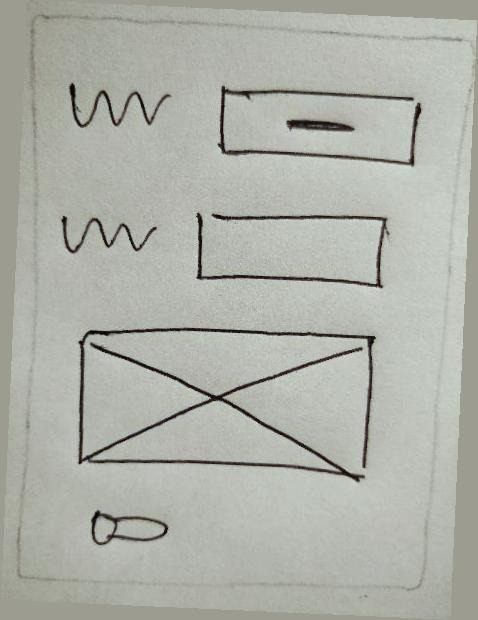button: (207, 73, 425, 179)
image: (62, 314, 381, 489)
switch: (75, 497, 179, 555)
text: (52, 203, 166, 268), (58, 76, 176, 135)
text_input: (185, 199, 394, 297)
